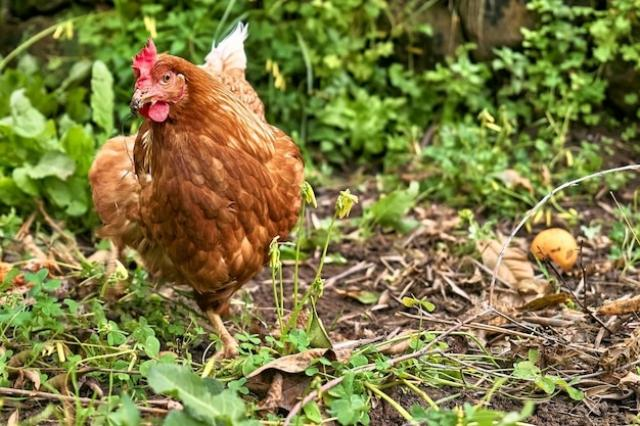Chicken: (89, 22, 305, 357)
